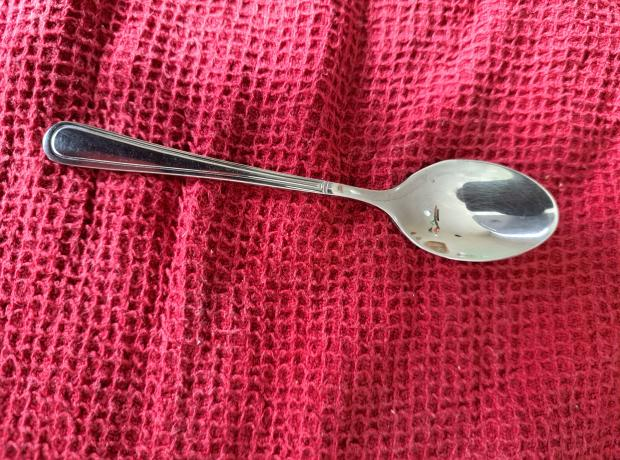metal: (37, 127, 562, 268)
